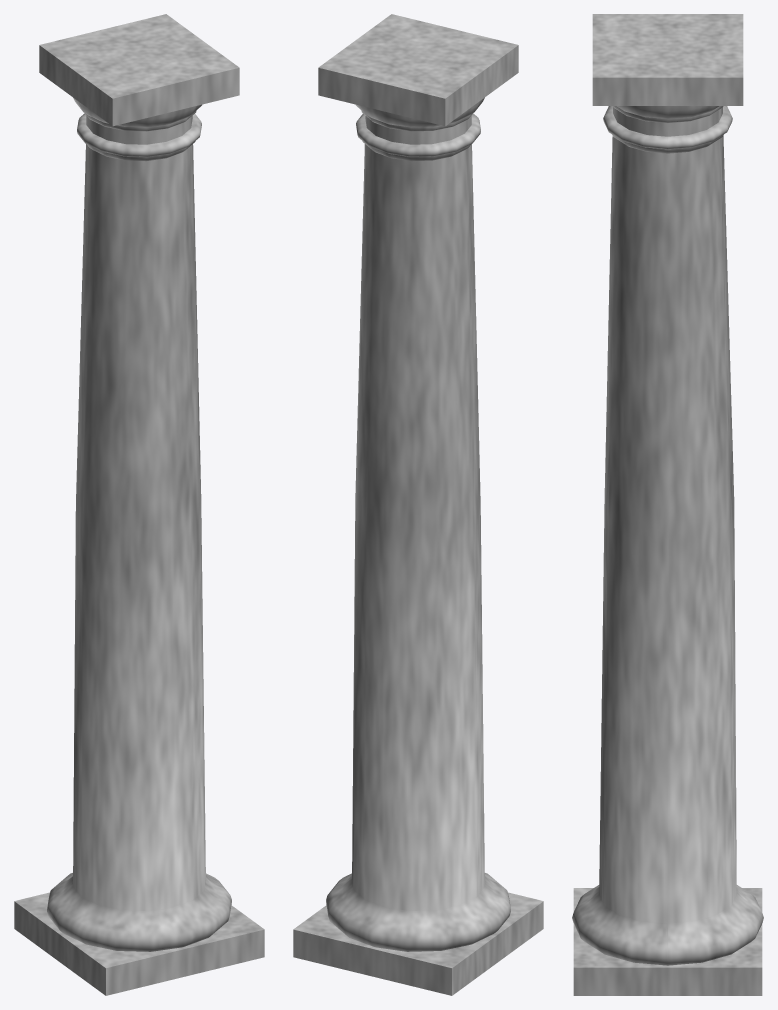
Rendered from Pillar.glb.
3 views of the same model, side by side, from view 1: azimuth 30°, elevation 25°; view 2: azimuth 150°, elevation 25°; view 3: azimuth 270°, elevation 25° (orthographic). The views are drawn at different scales.
Parts seen in each view (by area): view 1: tuscan_column; view 2: tuscan_column; view 3: tuscan_column.
Part boxes in pixels (x1,y1,x2,y2): tuscan_column: (14, 14, 264, 995); tuscan_column: (293, 14, 543, 995); tuscan_column: (572, 14, 763, 995).
Bounding box in the file's own units: 0.7643 × 4 × 0.7643.
Materials: 1 (1 with a texture image).
